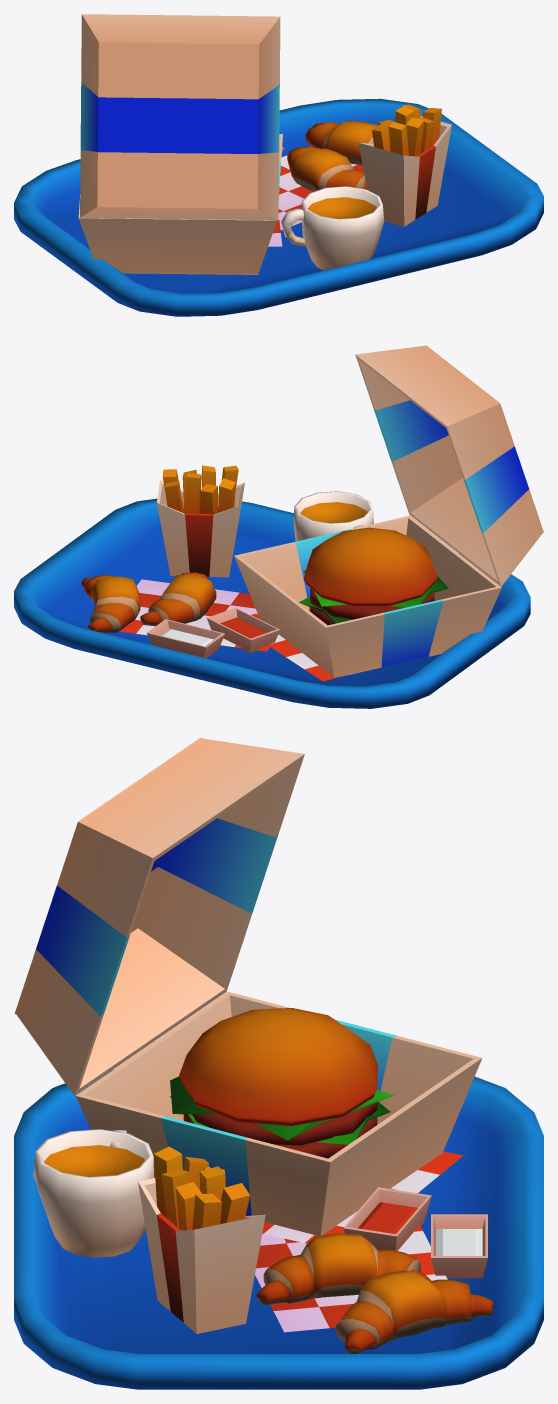
File: fastfood_blue.glb
3 views of the same model, one above another, from view 1: azimuth 30°, elevation 25°; view 2: azimuth 150°, elevation 25°; view 3: azimuth 270°, elevation 25° (orthographic). The views are drawn at different scales.
Visible parts, largest first — view 1: ParcelBox_Upper, Tray, ParcelBox_Lower, CoffeeCup, FrenchFries_Holder, Crossiant_1.001, Crossiant_1, Napkin_2, French_Fries_1, French_Fries_2, French_Fries_5, French_Fries_4; view 2: Tray, ParcelBox_Upper, ParcelBox_Lower, Burger_Top, FrenchFries_Holder, CoffeeCup, Crossiant_1, Crossiant_1.001, Napkin_2, Dips_2, Dips_1, patty_1 (+6 smaller); view 3: Tray, ParcelBox_Upper, ParcelBox_Lower, Burger_Top, CoffeeCup, FrenchFries_Holder, Crossiant_1, Crossiant_1.001, Napkin_2, Dips_2, Dips_1, patty_1 (+8 smaller).
Boxes of the visible parts, x1,y1,x2,y2 form: ParcelBox_Upper: (80,14,280,220); Tray: (14,98,543,316); ParcelBox_Lower: (78,134,282,274); CoffeeCup: (281,186,384,270); FrenchFries_Holder: (358,116,451,226); Crossiant_1.001: (287,146,367,191); Crossiant_1: (305,120,377,165); Napkin_2: (278,146,363,230); French_Fries_1: (388,122,408,155); French_Fries_2: (406,117,424,156); French_Fries_5: (372,123,390,151); French_Fries_4: (422,108,441,146); Tray: (14,498,530,708); ParcelBox_Upper: (355,345,543,586); ParcelBox_Lower: (234,515,501,677); Burger_Top: (303,527,437,606); FrenchFries_Holder: (156,480,244,577); CoffeeCup: (293,491,373,541); Crossiant_1: (81,575,140,632); Crossiant_1.001: (140,572,216,626); Napkin_2: (119,579,269,651); Dips_2: (147,619,224,658); Dips_1: (207,607,279,652); patty_1: (310,588,434,619); Tray: (14,1069,543,1389); ParcelBox_Upper: (14,737,304,1095); ParcelBox_Lower: (75,991,482,1235); Burger_Top: (179,1008,377,1125); CoffeeCup: (33,1129,153,1257); FrenchFries_Holder: (138,1167,265,1333); Crossiant_1: (336,1270,493,1353); Crossiant_1.001: (256,1233,431,1305); Napkin_2: (255,1225,447,1332); Dips_2: (431,1214,487,1278); Dips_1: (343,1187,431,1250); patty_1: (192,1102,377,1145).
Size of the model in its own units: 0.4194 by 0.2267 by 0.3.
Materials: 5 (5 with a texture image).
